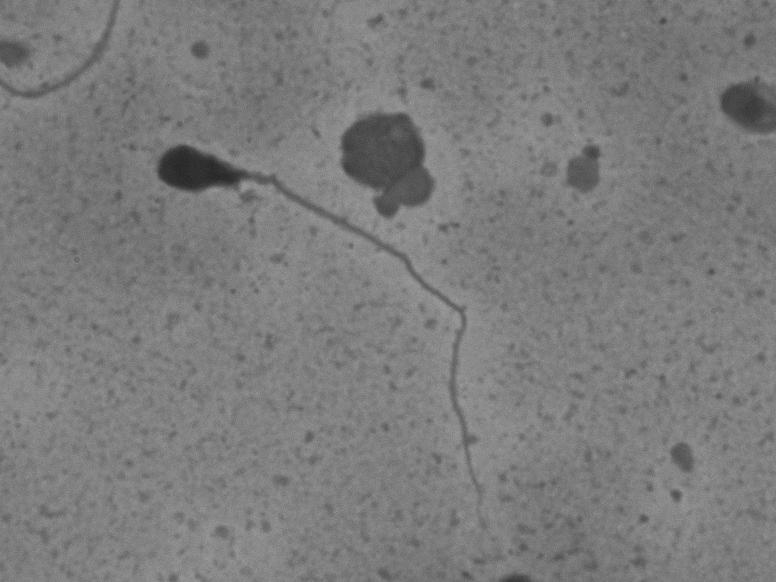Abnormal: (125, 130, 504, 540)
